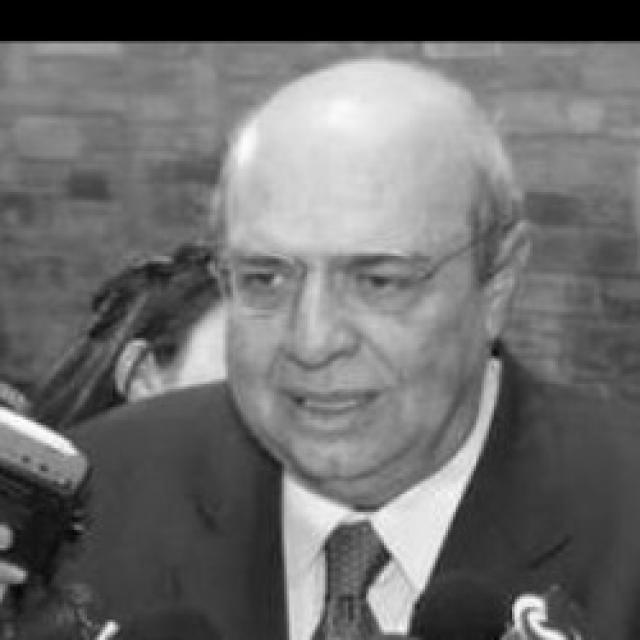real: (222, 138, 478, 480), (227, 251, 421, 311)
